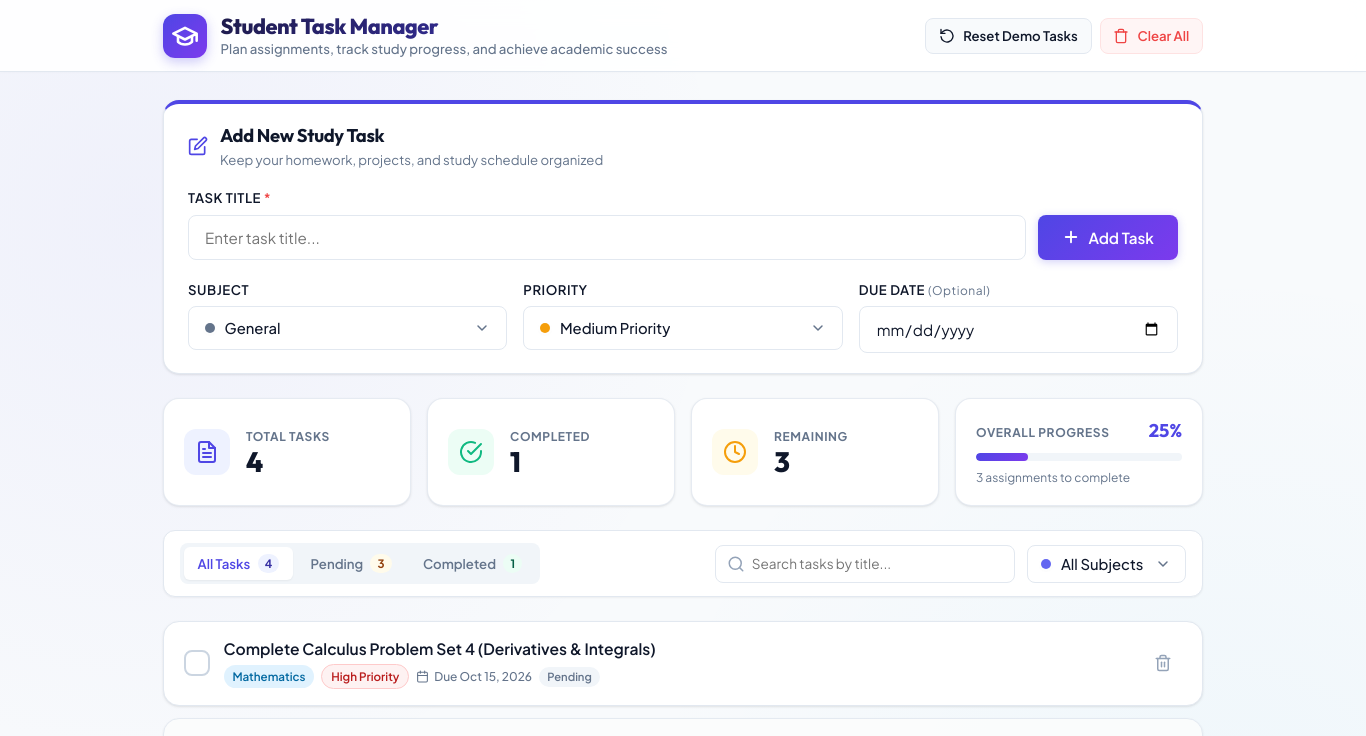
Test: Student Task Manager - Essential Assignment Test Suite › marks a task as completed and updates progress metrics (Feature 3)
expect the text with test id "stat-completed-count" reads "1": met, box x1=510 y1=444 x2=521 y2=479
expect the text with test id "stat-remaining-count" reads "3": met, box x1=774 y1=444 x2=790 y2=479
Click the checkbox named "Mark \"Complete Calculus Problem Set 4 (Derivatives & Integrals)\" as completed": (197, 663) x1=184 y1=650 x2=210 y2=676
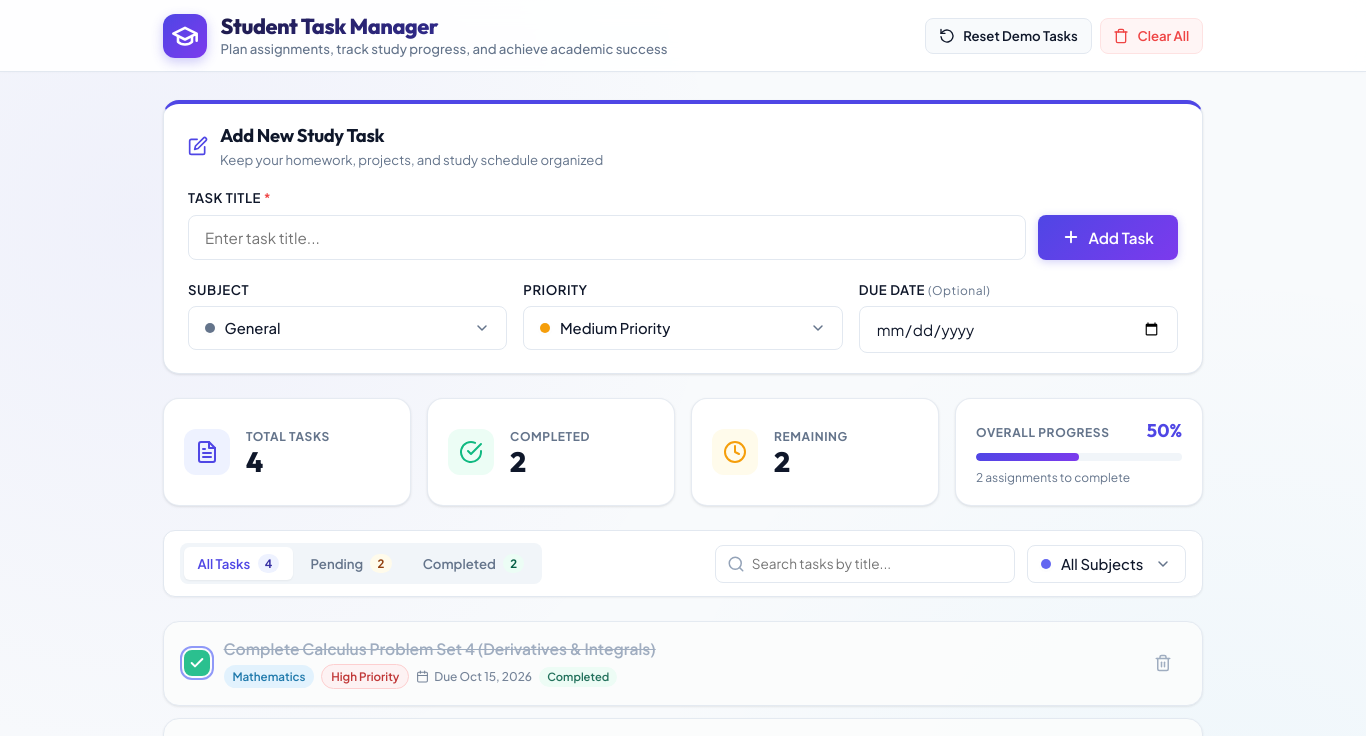
expect the text with test id "stat-completed-count" reads "2": met, box x1=510 y1=444 x2=526 y2=479
expect the text with test id "stat-remaining-count" reads "2": met, box x1=774 y1=444 x2=790 y2=479
